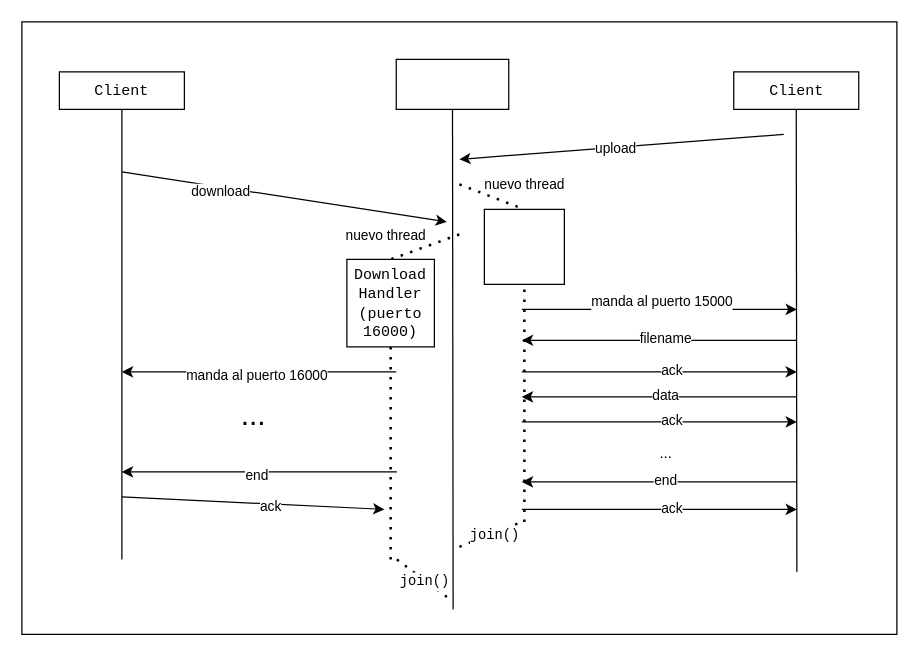
This 919x656 diagram has some shape labels left out. Each missing label, with the centre of its shape:
"Server (puerto 12000)" goes at [452,83].
"Upload Handler (puerto 15000)" goes at [523,246].
